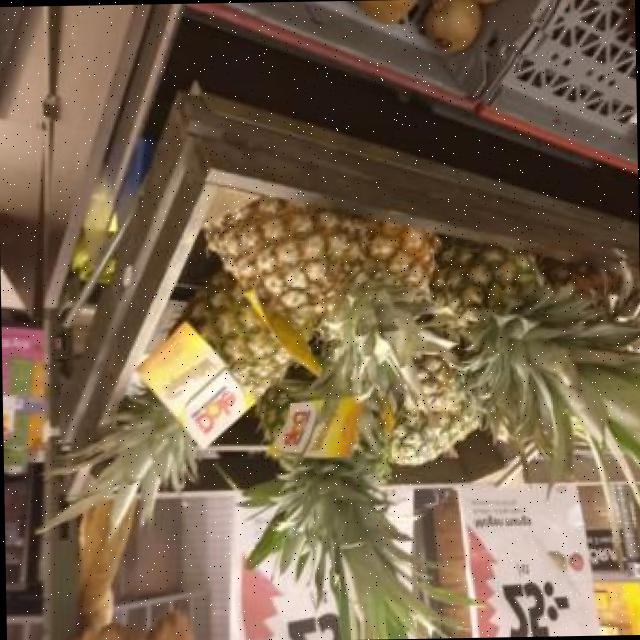pineapple: (428, 237, 640, 464), (206, 197, 437, 396), (57, 389, 194, 521), (186, 271, 289, 395), (390, 402, 478, 463)
